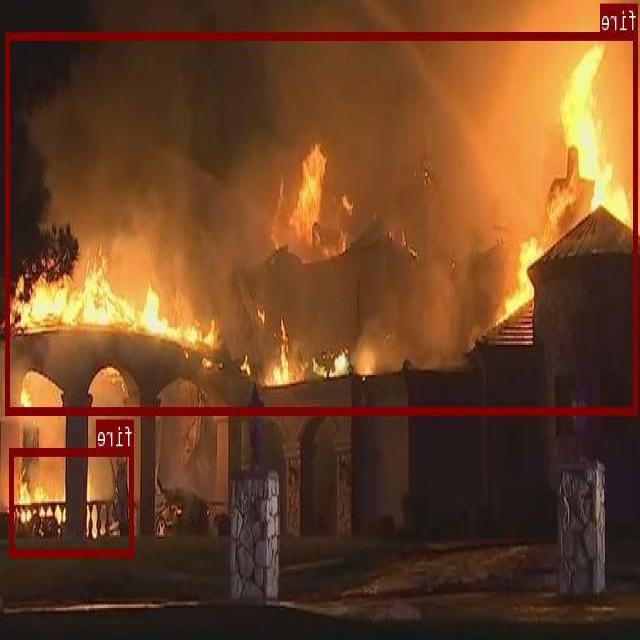fire: (7, 31, 638, 412), (11, 446, 134, 556)
